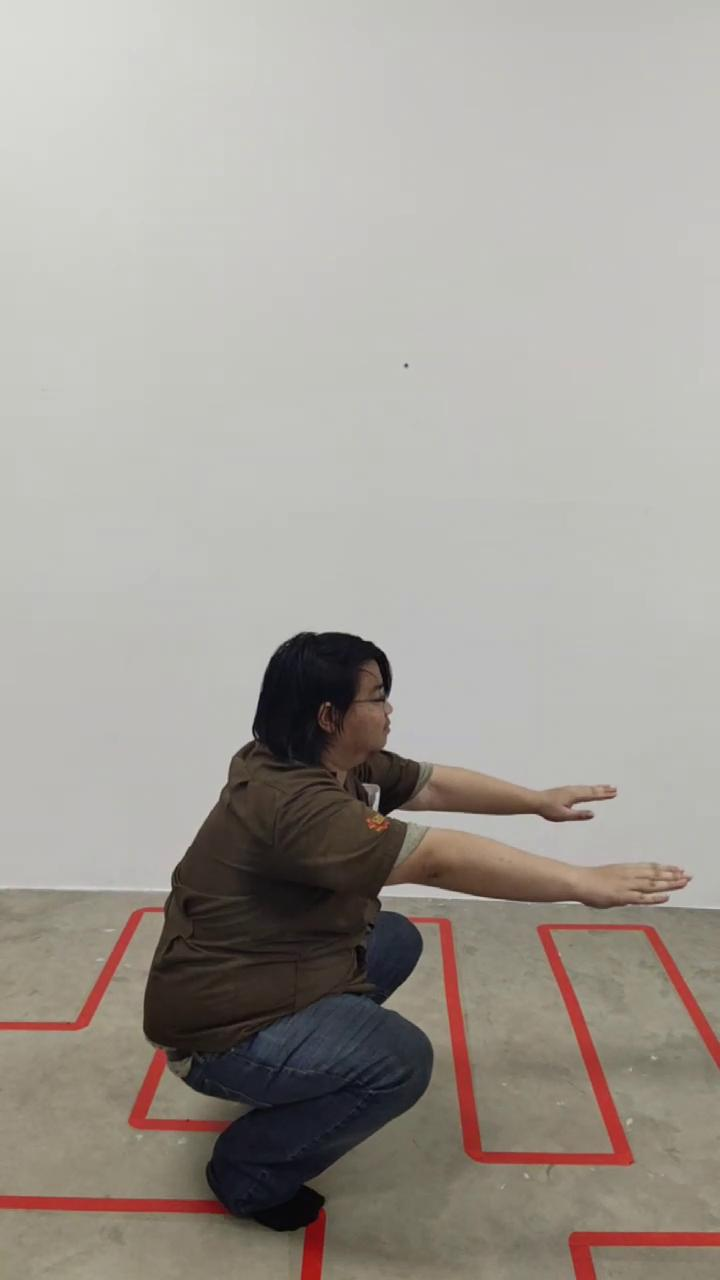squat down: (143, 634, 691, 1232)
